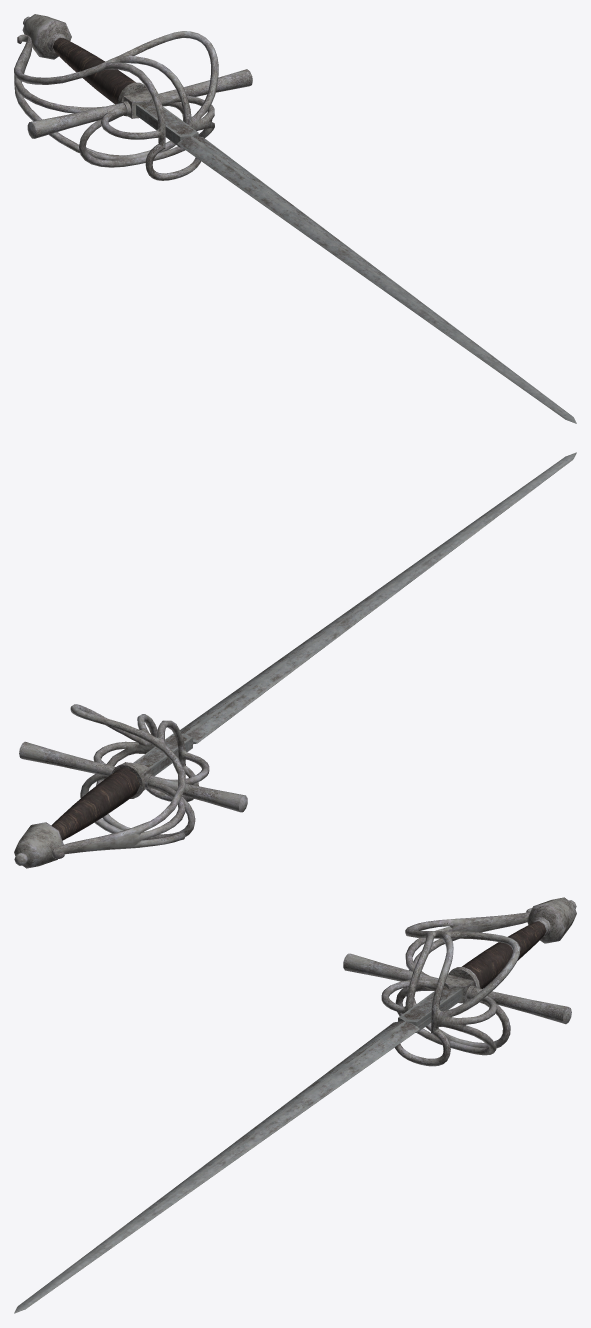
The model's file is rapier.fbx.
3 renders of one model, top to bottom at view 1: azimuth 30°, elevation 25°; view 2: azimuth 150°, elevation 25°; view 3: azimuth 330°, elevation 25°, orthographic.
Visible parts, largest first — view 1: WP_A_0250; view 2: WP_A_0250; view 3: WP_A_0250.
Boxes of the visible parts, x1=… form: WP_A_0250: x1=14, y1=14, x2=576, y2=423; WP_A_0250: x1=14, y1=452, x2=576, y2=868; WP_A_0250: x1=14, y1=897, x2=576, y2=1313.
Size of the model in its own units: 24.94 by 12.61 by 107.
Materials: 1 (1 with a texture image).
